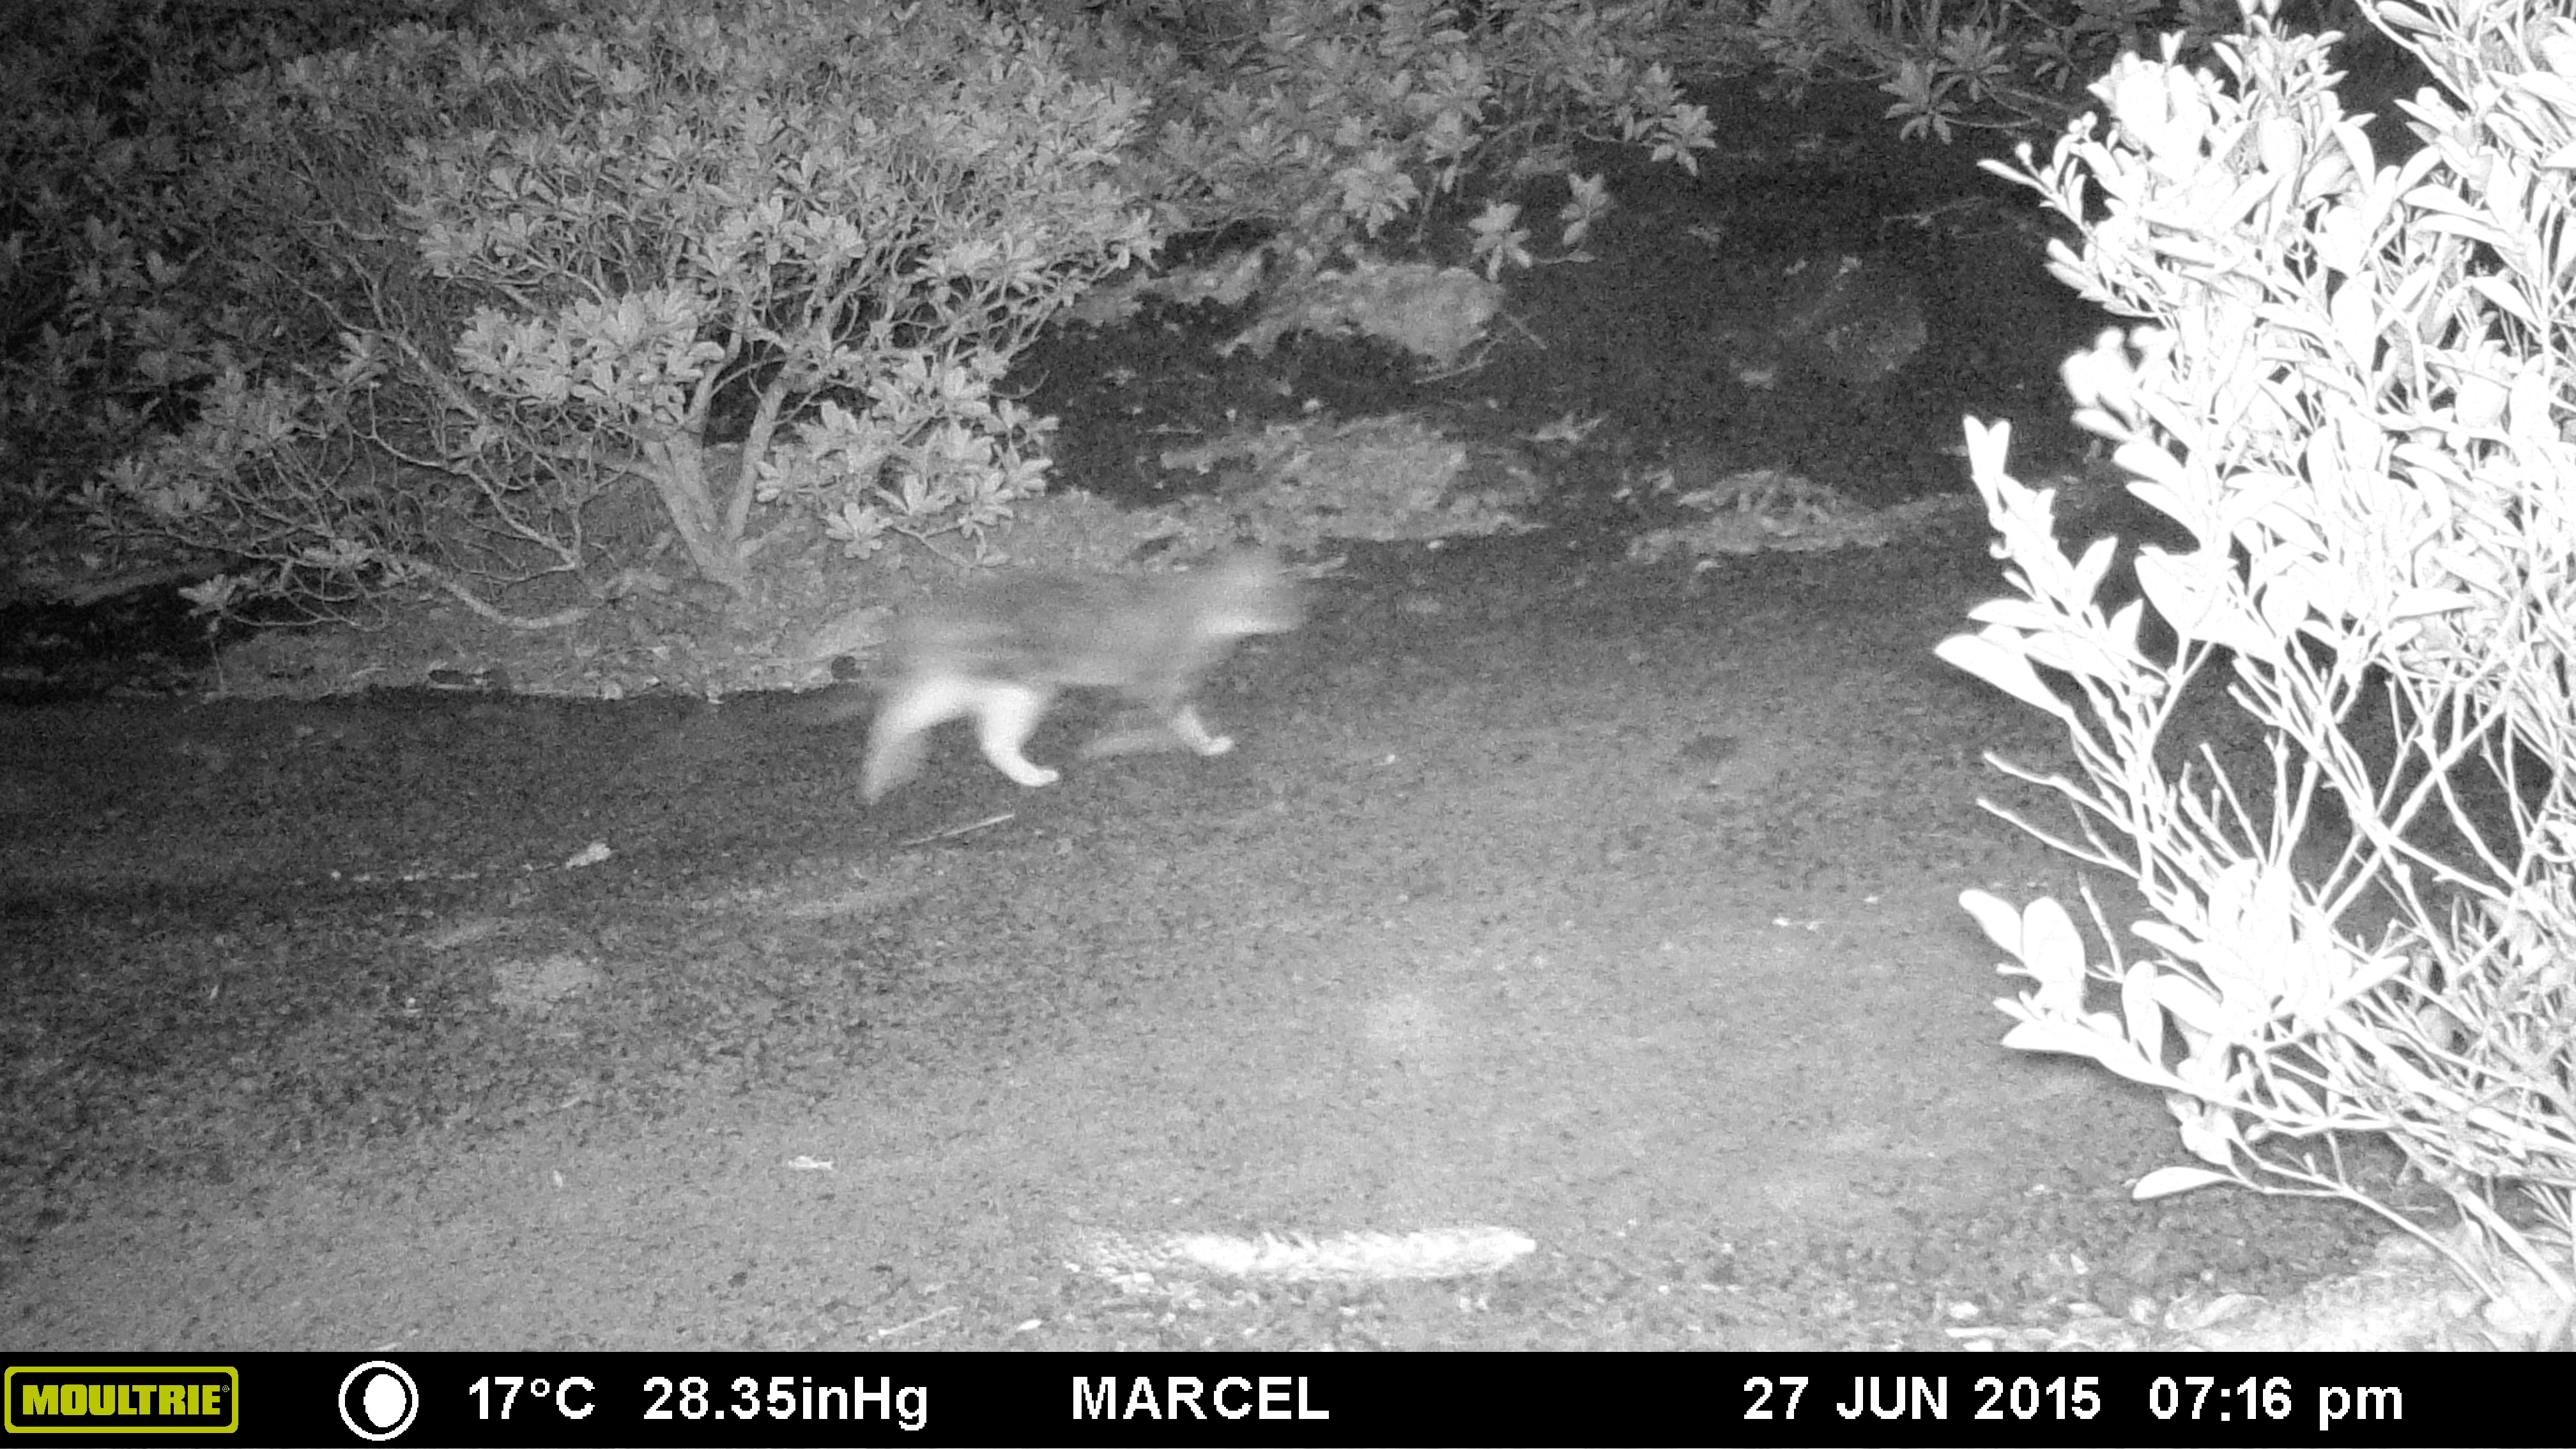cat: (847, 533, 1316, 796)
